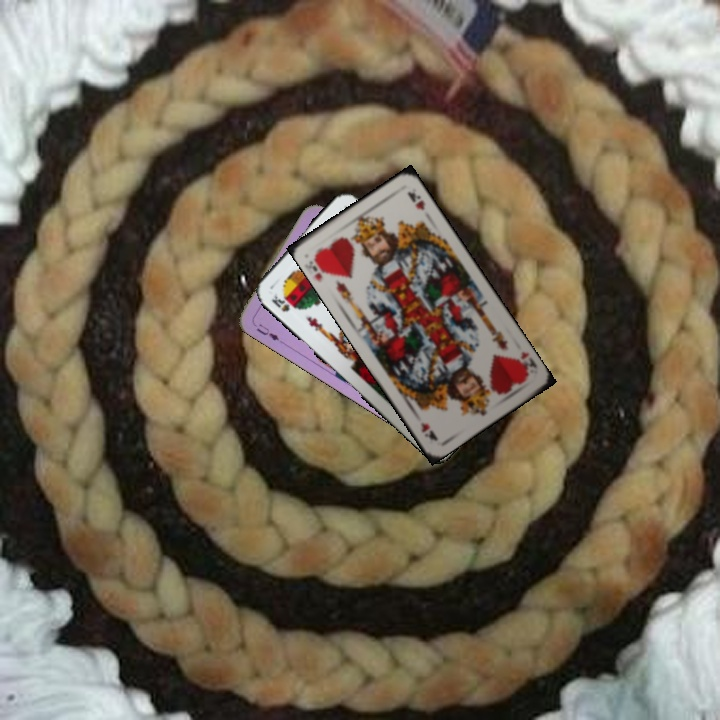EU: (249, 318, 285, 346)
HK: (303, 249, 334, 280), (510, 347, 540, 379)
SK: (267, 289, 292, 315)
